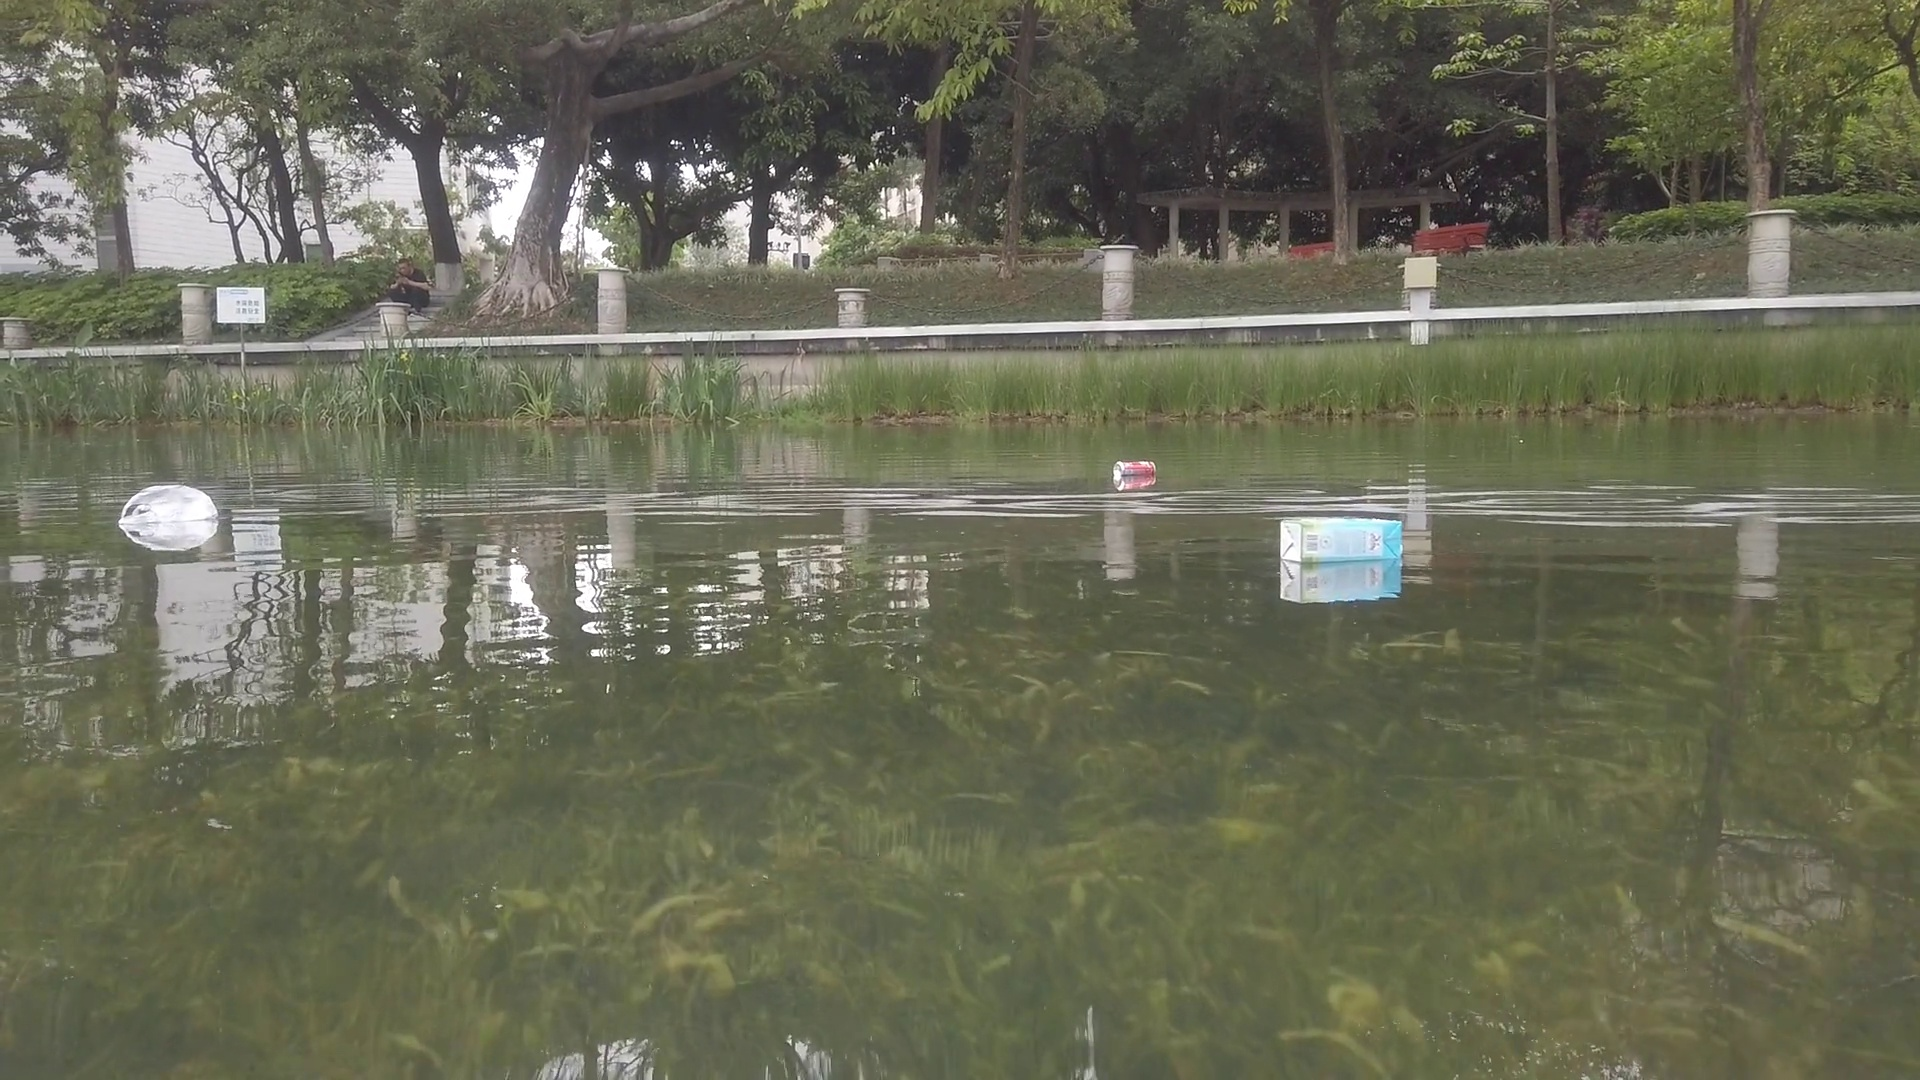bottle: (1113, 458, 1156, 477)
carton: (1280, 516, 1404, 560)
plastic: (119, 483, 220, 525)
